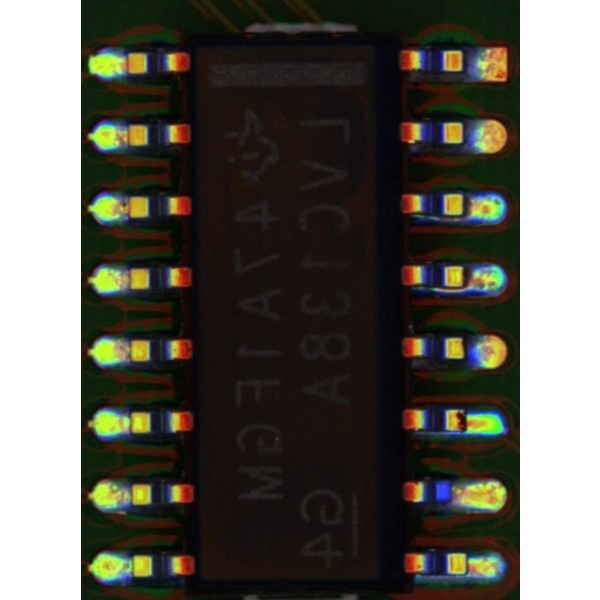Bad_podu: (451, 561, 480, 574)
Bad_qiaojiao: (413, 214, 469, 222), (417, 430, 464, 439), (415, 288, 467, 295)
